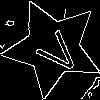V: (28, 22, 85, 79)
